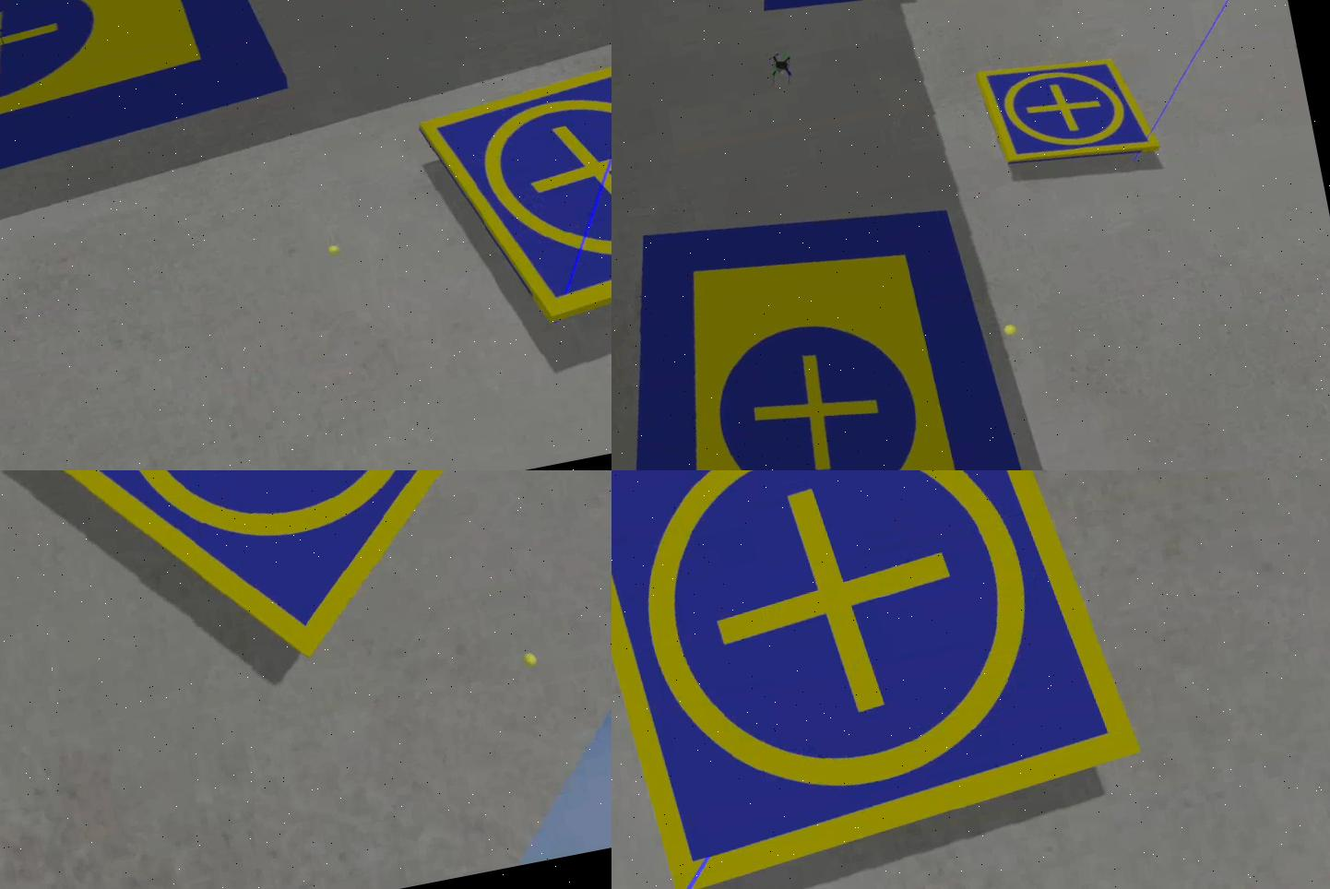large_base: (612, 166, 1086, 471), (1, 1, 293, 234)
small_base: (612, 471, 1154, 889), (1, 471, 585, 705), (415, 31, 612, 335), (979, 34, 1166, 182)
